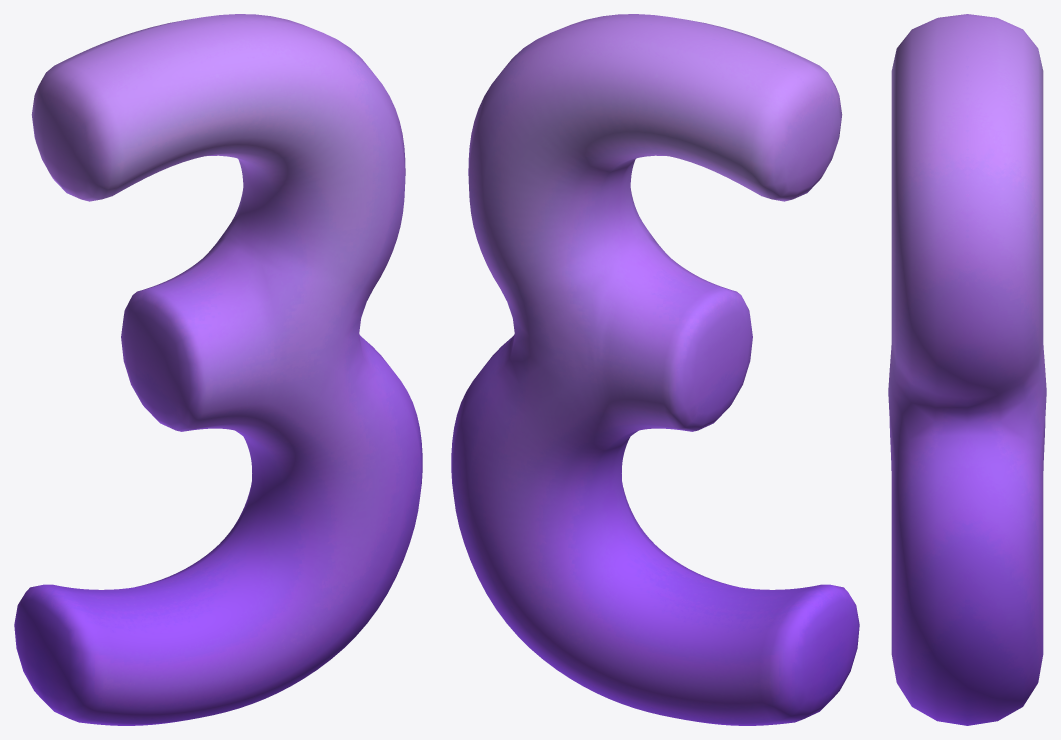
The picture shows the model from 3 angles, left to right: view 1: azimuth 30°, elevation 25°; view 2: azimuth 150°, elevation 25°; view 3: azimuth 270°, elevation 25°; orthographic projection. The views are drawn at different scales.
Parts seen in each view (by area): view 1: node_id250; view 2: node_id250; view 3: node_id250.
Boxes of the visible parts, left/top/right/bottom form: node_id250: left=14, top=14, right=422, bottom=725; node_id250: left=451, top=14, right=859, bottom=725; node_id250: left=888, top=14, right=1046, bottom=725.
Size of the model in its own units: 0.2946 by 0.512 by 0.1139.
Materials: 1 (1 with a texture image).
